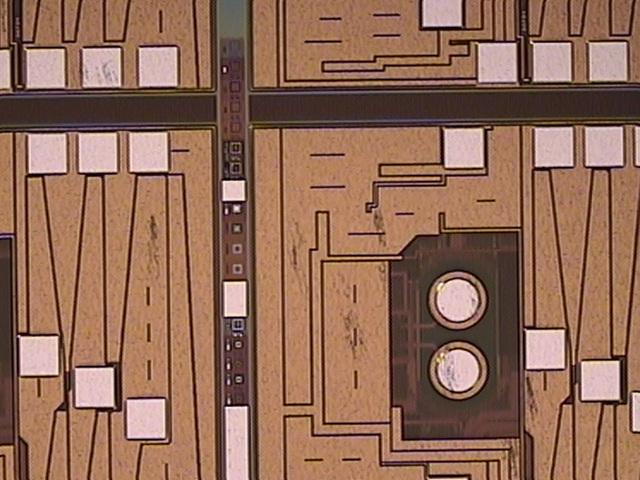SCRATCH: (75, 48, 557, 480)
